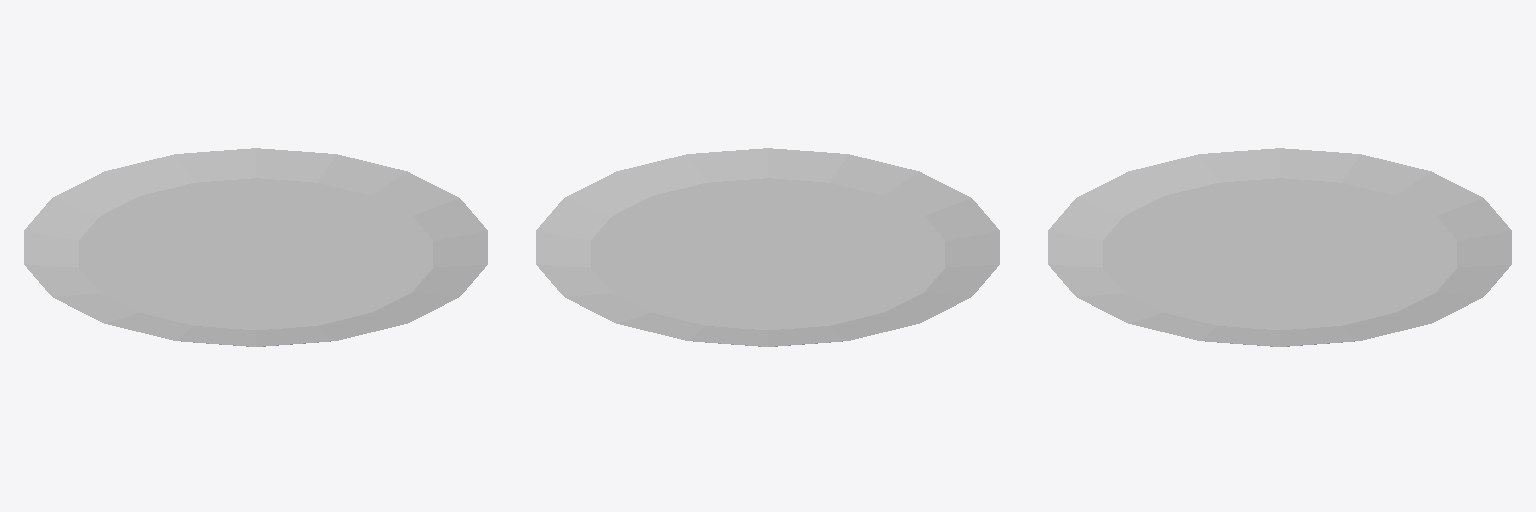
The model's file is plate1.obj.
The picture shows the model from 3 angles: view 1: azimuth 30°, elevation 25°; view 2: azimuth 150°, elevation 25°; view 3: azimuth 270°, elevation 25°; orthographic projection.
Visible parts, largest first — view 1: Cylinder001; view 2: Cylinder001; view 3: Cylinder001.
Boxes of the visible parts, <box> form: Cylinder001: <box>24,148,487,346</box>; Cylinder001: <box>536,148,999,346</box>; Cylinder001: <box>1048,148,1511,346</box>.
Size of the model in its own units: 86.63 by 3.43 by 85.31.